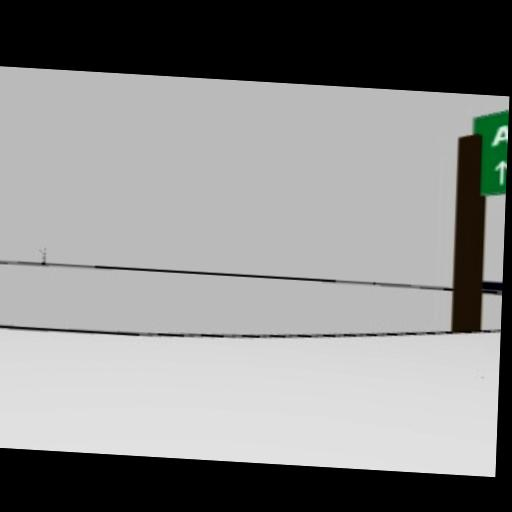A: (492, 122, 508, 144)
Straight: (492, 159, 507, 183)
